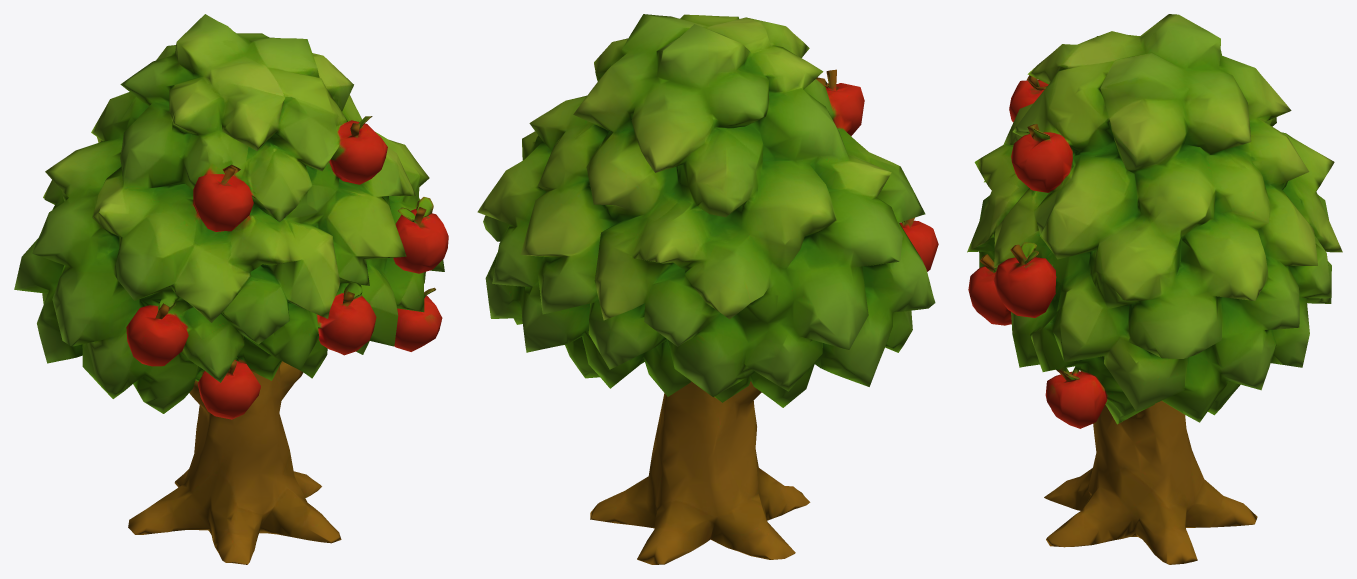
Rendered from apple.glb.
The picture shows the model from 3 angles, left to right: view 1: azimuth 30°, elevation 25°; view 2: azimuth 150°, elevation 25°; view 3: azimuth 270°, elevation 25°; orthographic projection. The views are drawn at different scales.
Visible parts, largest first — view 1: tripo_node_6189e5af-68c1-4e18-948e-e19cab45be6c; view 2: tripo_node_6189e5af-68c1-4e18-948e-e19cab45be6c; view 3: tripo_node_6189e5af-68c1-4e18-948e-e19cab45be6c.
Boxes of the visible parts, x1,y1,x2,y2 form: tripo_node_6189e5af-68c1-4e18-948e-e19cab45be6c: (14, 14, 448, 564); tripo_node_6189e5af-68c1-4e18-948e-e19cab45be6c: (477, 14, 938, 564); tripo_node_6189e5af-68c1-4e18-948e-e19cab45be6c: (967, 14, 1342, 564).
Bounding box in the file's own units: 0.8444 × 1 × 0.6949.
1 material, 1 textured.
